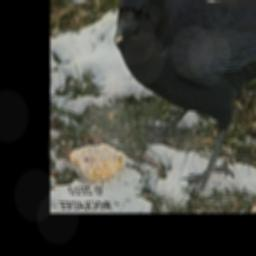Crow: (113, 0, 256, 190)
